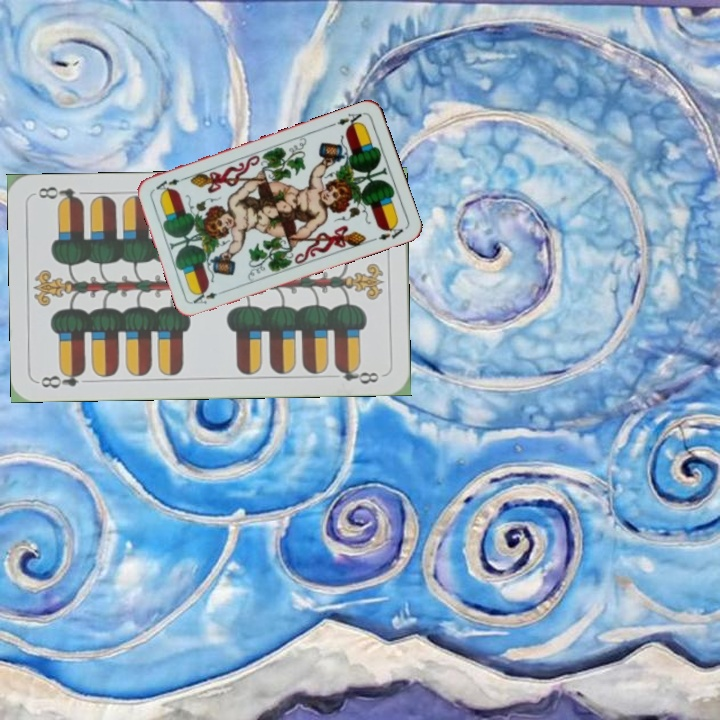E8: (37, 366, 88, 391)
EA: (327, 109, 366, 131), (189, 286, 228, 307)
